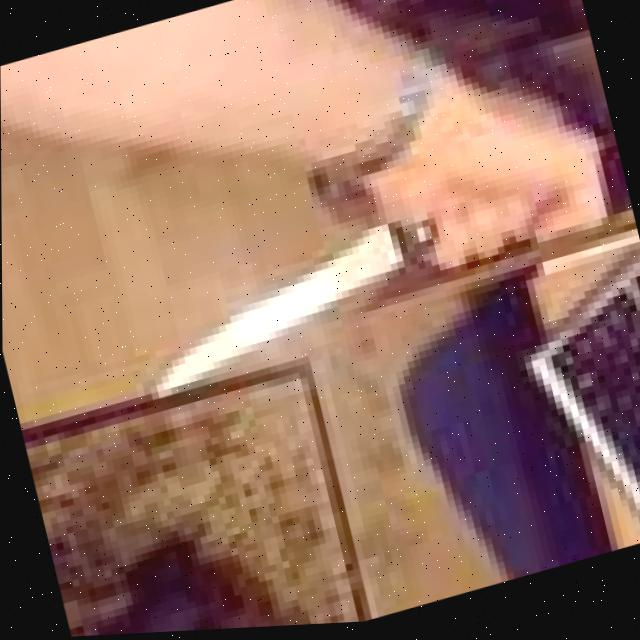knife: (101, 159, 480, 451)
